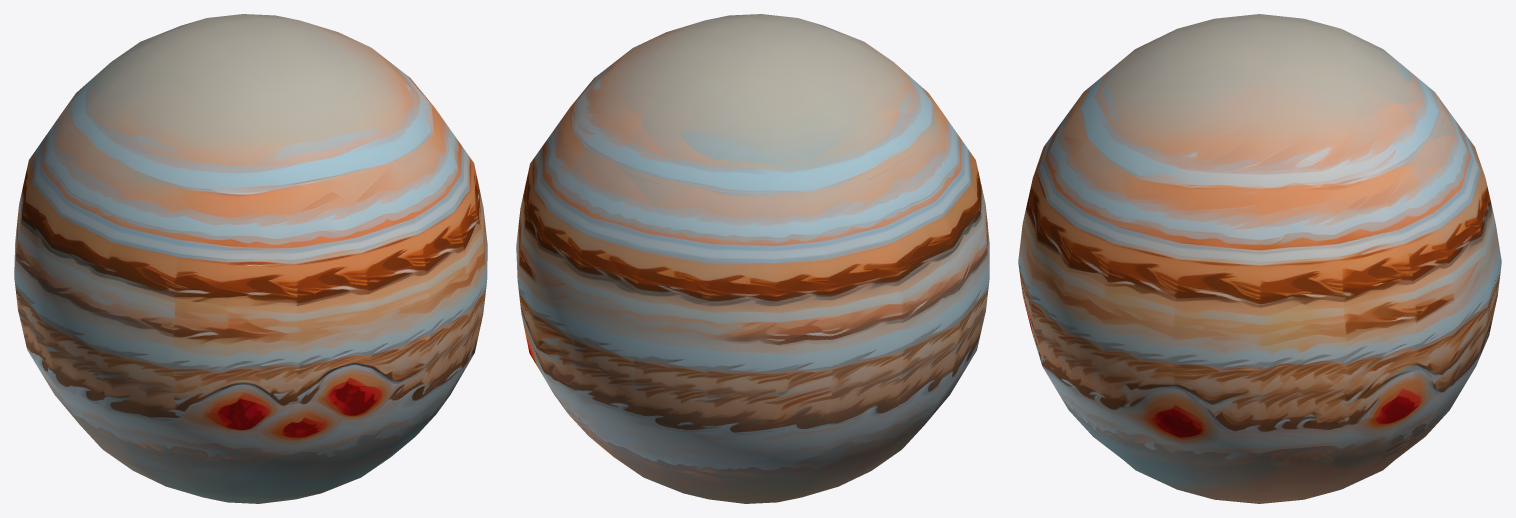
The model's file is jupiter_planet_20260525.glb.
3 renders of one model, left to right at view 1: azimuth 30°, elevation 25°; view 2: azimuth 150°, elevation 25°; view 3: azimuth 270°, elevation 25°, orthographic.
Visible parts, largest first — view 1: material; view 2: material; view 3: material.
Boxes of the visible parts, x1=… form: material: x1=14, y1=14, x2=487, y2=503; material: x1=516, y1=14, x2=989, y2=503; material: x1=1018, y1=14, x2=1501, y2=503.
Bounding box in the file's own units: 1.86 × 1.9 × 1.87.
1 material, 1 textured.
